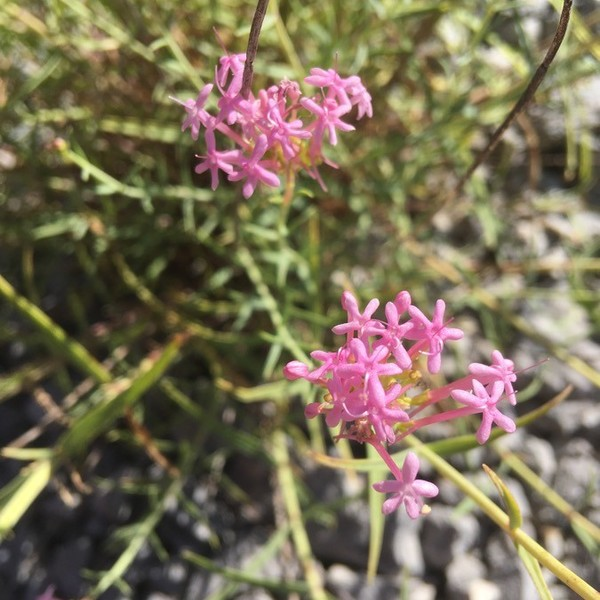obstacle: (161, 42, 517, 543)
